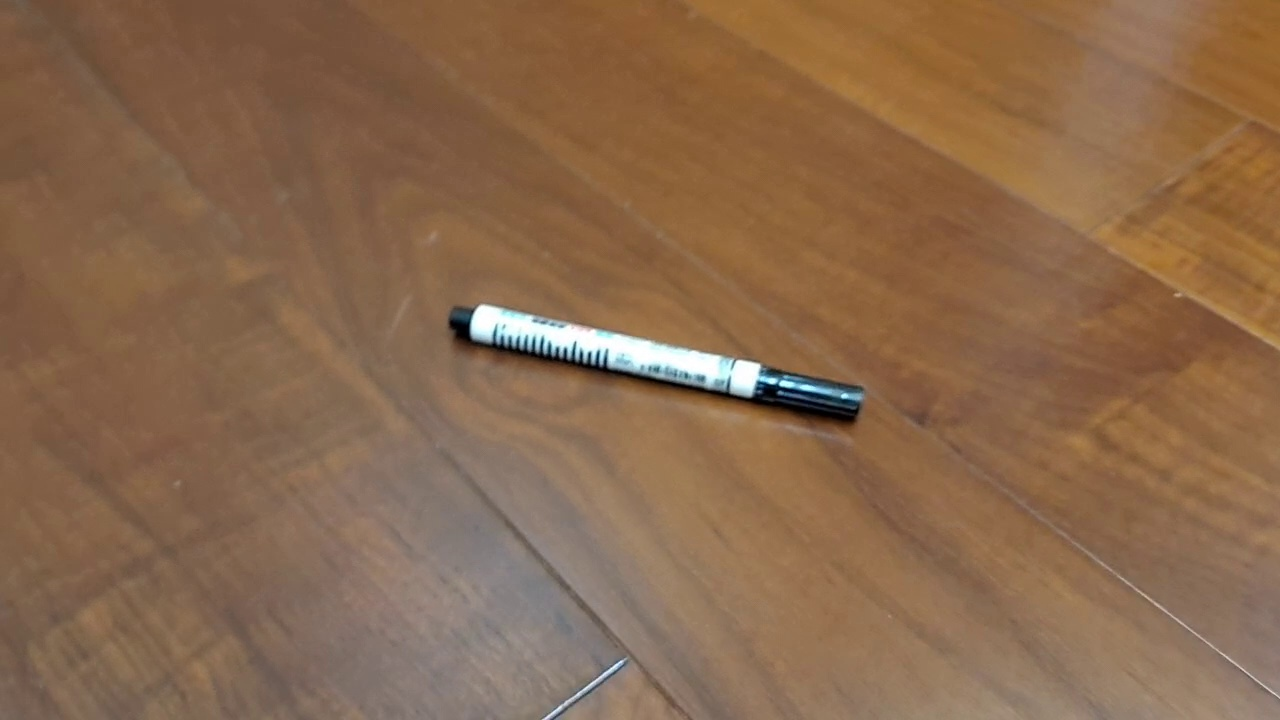pen: (448, 301, 866, 425)
